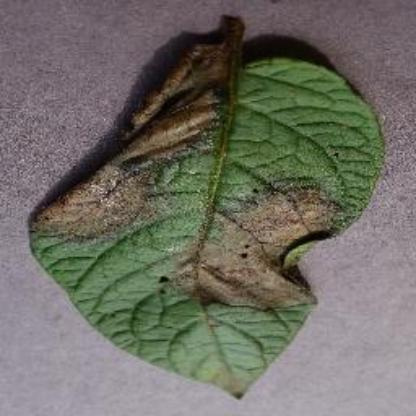Late-Blight: (35, 19, 389, 406)
